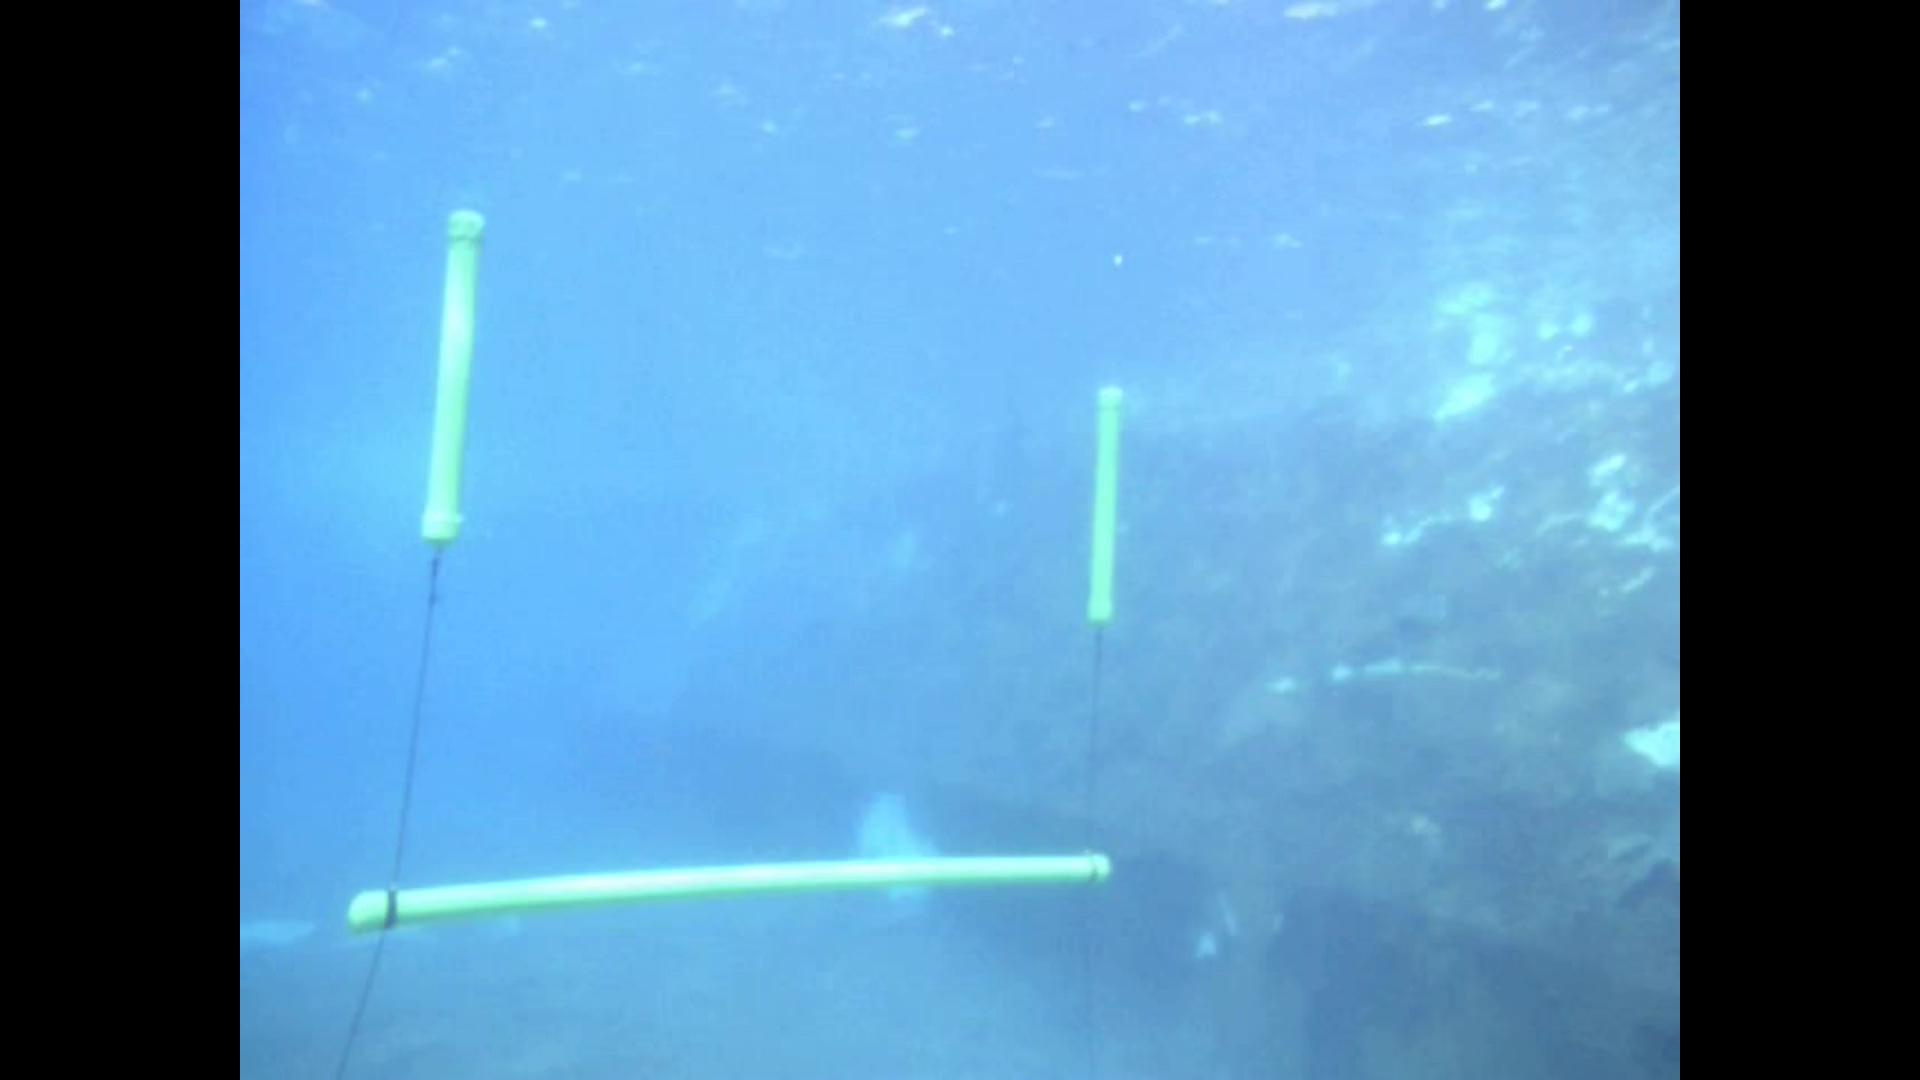gate: (348, 206, 1114, 942)
